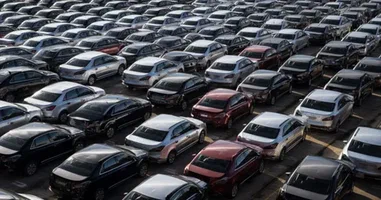Car: (49, 143, 149, 200), (183, 140, 264, 198), (0, 121, 85, 176), (124, 113, 207, 163), (66, 93, 152, 139), (276, 154, 355, 200), (236, 111, 309, 160), (23, 81, 106, 124), (190, 87, 255, 129), (294, 88, 354, 132), (146, 72, 212, 110), (57, 50, 127, 85), (338, 126, 381, 180), (122, 173, 208, 200), (0, 66, 60, 102), (236, 69, 293, 105), (122, 56, 184, 89), (204, 54, 259, 90), (324, 68, 374, 105), (0, 100, 44, 137), (32, 45, 87, 74), (277, 54, 325, 87), (182, 40, 228, 70), (117, 42, 169, 68), (316, 40, 360, 69), (237, 44, 282, 69), (74, 35, 128, 55), (152, 32, 204, 52), (17, 35, 71, 54), (274, 28, 310, 54), (340, 31, 376, 56), (57, 27, 104, 46), (0, 29, 46, 48), (353, 56, 381, 87), (160, 51, 199, 73), (257, 38, 293, 61), (319, 14, 352, 39), (213, 34, 251, 55), (0, 54, 49, 70), (235, 26, 276, 45), (303, 23, 336, 43), (354, 23, 381, 47), (37, 22, 78, 37), (104, 27, 151, 40), (142, 15, 180, 31), (17, 18, 62, 31), (221, 16, 253, 34), (123, 31, 164, 45), (197, 25, 235, 40), (180, 17, 215, 33), (0, 188, 45, 200), (1, 14, 39, 28), (165, 10, 203, 24), (261, 18, 294, 34), (340, 11, 365, 31), (0, 46, 35, 60), (101, 9, 138, 22), (116, 14, 150, 28), (86, 20, 119, 34), (53, 12, 94, 23), (283, 14, 311, 30), (70, 15, 107, 27), (34, 7, 68, 20), (207, 10, 236, 25), (157, 25, 193, 37), (0, 1, 35, 12), (348, 6, 372, 22), (230, 5, 259, 18), (247, 12, 272, 27), (127, 3, 158, 15), (142, 7, 173, 19), (312, 5, 336, 20), (0, 11, 27, 24), (49, 0, 83, 10), (359, 2, 381, 17), (298, 9, 321, 23), (191, 6, 217, 18), (324, 2, 350, 14), (255, 0, 280, 12), (67, 3, 100, 12), (17, 5, 46, 15), (86, 6, 115, 16), (191, 0, 227, 8), (104, 0, 131, 10), (263, 8, 287, 19), (0, 24, 18, 38), (148, 0, 178, 8), (169, 3, 196, 11), (282, 4, 302, 14), (294, 0, 316, 9), (0, 0, 24, 8), (89, 0, 116, 7), (36, 0, 62, 7), (215, 2, 236, 10), (335, 0, 358, 7), (367, 17, 381, 25), (313, 0, 329, 6), (23, 0, 41, 5), (369, 0, 381, 4), (375, 13, 381, 18)
